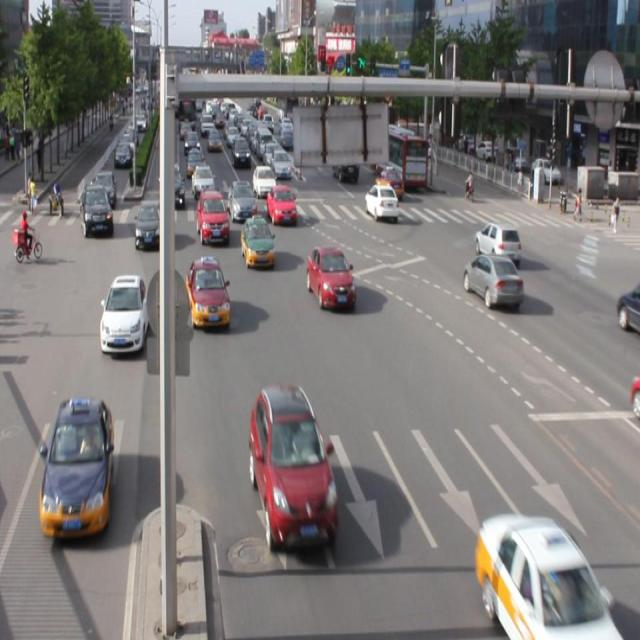car: (478, 513, 619, 640), (250, 386, 338, 546), (40, 395, 115, 533), (100, 273, 149, 354), (462, 251, 522, 308), (186, 258, 231, 329), (306, 246, 354, 310), (473, 222, 520, 266), (241, 213, 275, 269), (197, 190, 229, 247), (134, 198, 164, 250)
